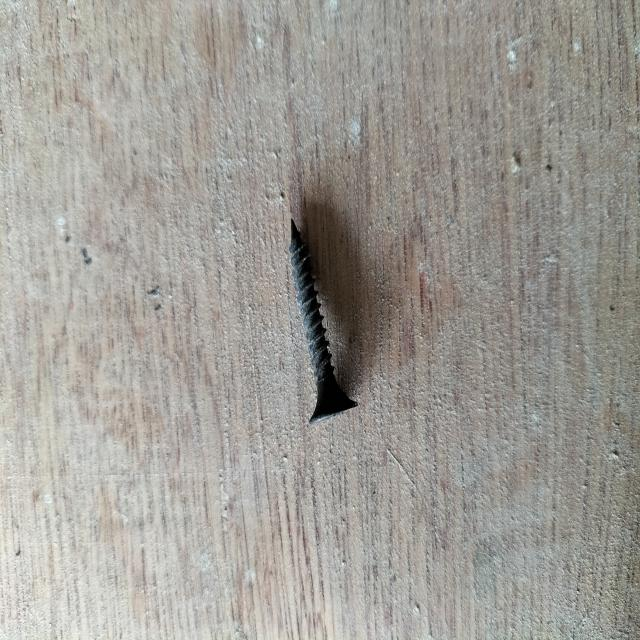screw: (290, 219, 359, 423)
